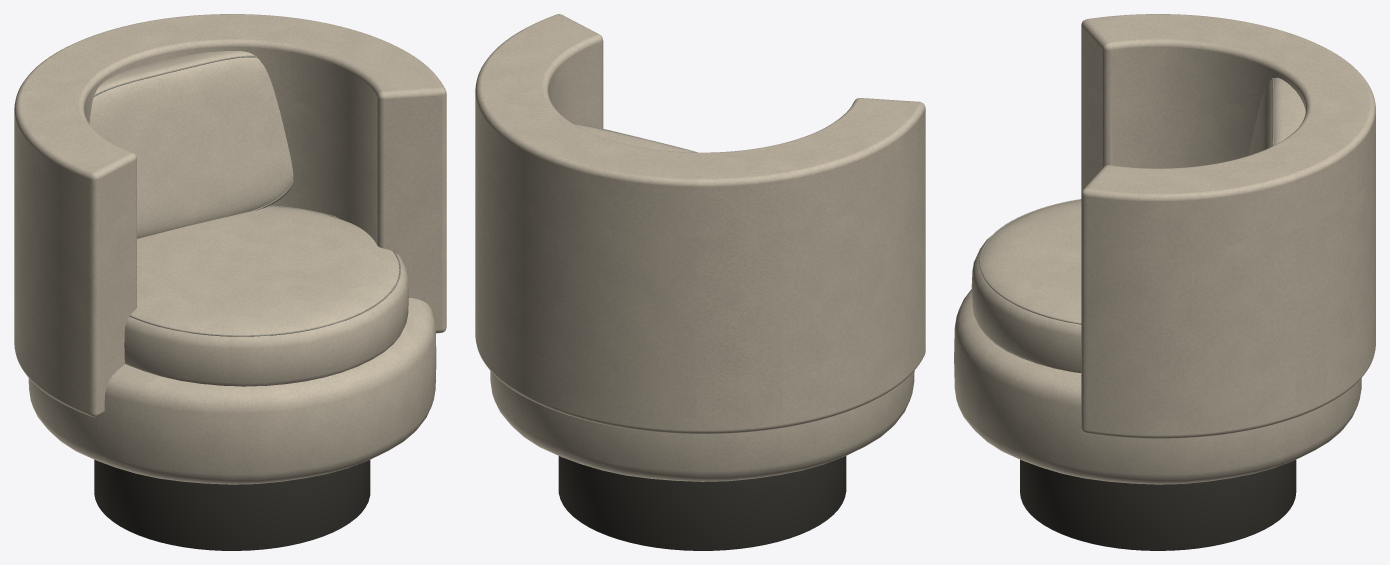
The picture shows the model from 3 angles, left to right: view 1: azimuth 30°, elevation 25°; view 2: azimuth 150°, elevation 25°; view 3: azimuth 270°, elevation 25°; orthographic projection. The views are drawn at different scales.
Parts seen in each view (by area): view 1: Barrel | enclosing curved shell, Barrel | round loose seat, Barrel | round lower body, Barrel | loose back, Swivel | concealed circular base, Barrel | round loose seat | upper tailored welt; view 2: Barrel | enclosing curved shell, Barrel | round lower body, Swivel | concealed circular base, Barrel | loose back; view 3: Barrel | enclosing curved shell, Barrel | round lower body, Swivel | concealed circular base, Barrel | round loose seat, Barrel | loose back.
Boxes of the visible parts, box(x1,y1,x2,y2) form: Barrel | enclosing curved shell: box(14, 14, 446, 417); Barrel | round loose seat: box(124, 206, 408, 386); Barrel | round lower body: box(28, 297, 436, 484); Barrel | loose back: box(89, 50, 293, 238); Swivel | concealed circular base: box(94, 460, 370, 550); Barrel | round loose seat | upper tailored welt: box(129, 205, 400, 336); Barrel | enclosing curved shell: box(475, 14, 925, 434); Barrel | round lower body: box(490, 371, 914, 481); Swivel | concealed circular base: box(558, 456, 846, 550); Barrel | loose back: box(574, 124, 694, 152); Barrel | enclosing curved shell: box(1081, 14, 1375, 438); Barrel | round lower body: box(954, 289, 1361, 484); Swivel | concealed circular base: box(1020, 459, 1296, 550); Barrel | round loose seat: box(971, 200, 1081, 372); Barrel | loose back: box(1248, 77, 1305, 155).
Bounding box in the file's own units: 0.902 × 0.8885 × 0.8734.
Materials: 4 (1 with a texture image).
